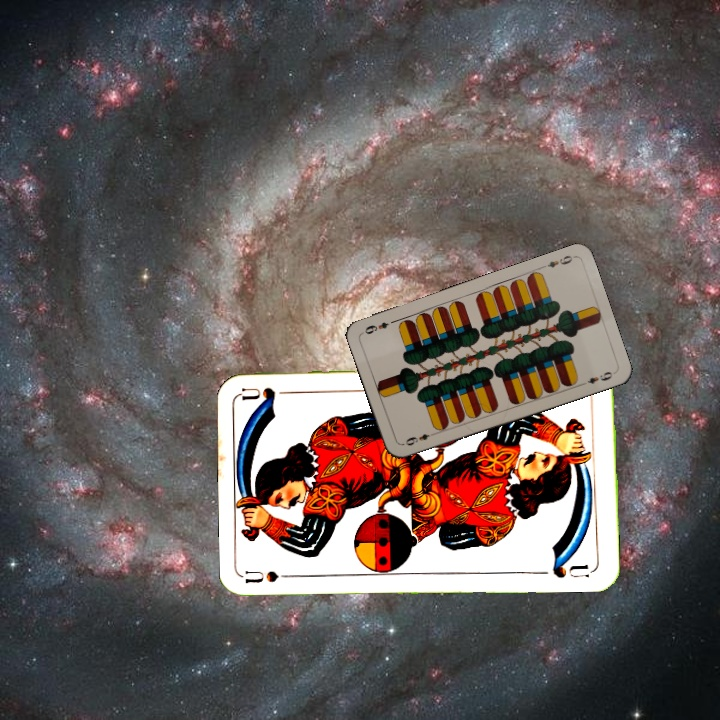E9: (537, 251, 577, 271), (401, 430, 438, 448)
SU: (244, 566, 303, 586)
